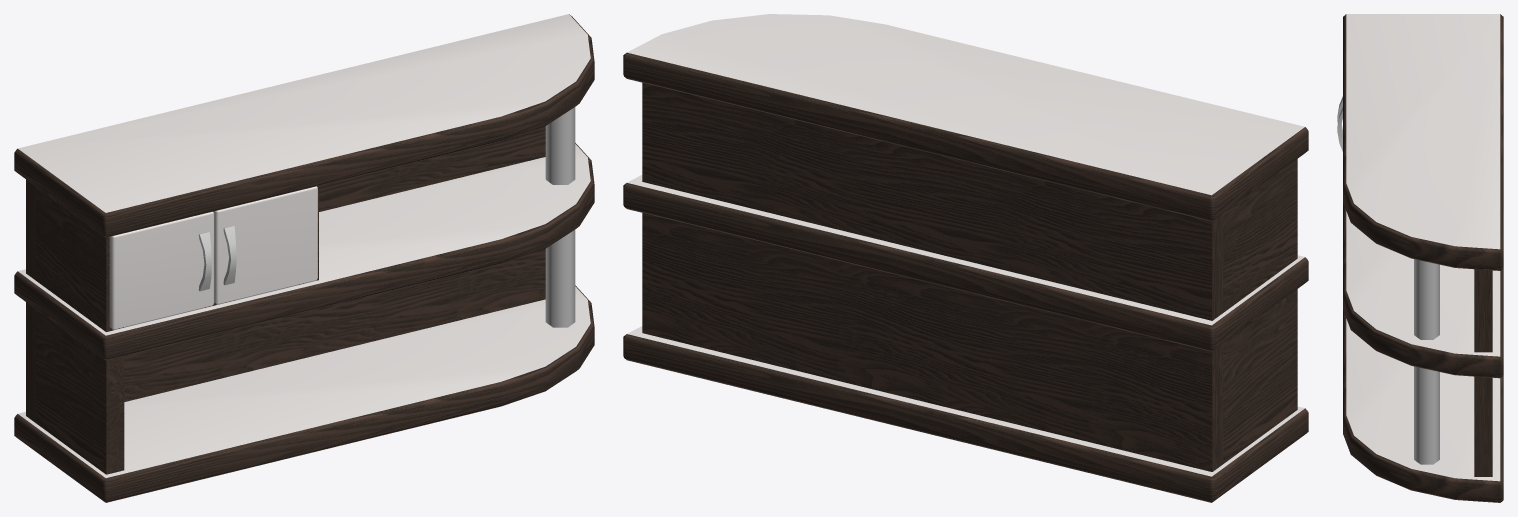
The model's file is dresser_024.fbx.
3 renders of one model, left to right at view 1: azimuth 30°, elevation 25°; view 2: azimuth 150°, elevation 25°; view 3: azimuth 270°, elevation 25°, orthographic. The views are drawn at different scales.
Visible parts, largest first — view 1: dresser_024; view 2: dresser_024; view 3: dresser_024.
Boxes of the visible parts, left/top/right/bottom form: dresser_024: left=14, top=14, right=594, bottom=502; dresser_024: left=623, top=14, right=1308, bottom=502; dresser_024: left=1337, top=14, right=1503, bottom=502.
Size of the model in its own units: 195 by 57.53 by 96.62.
